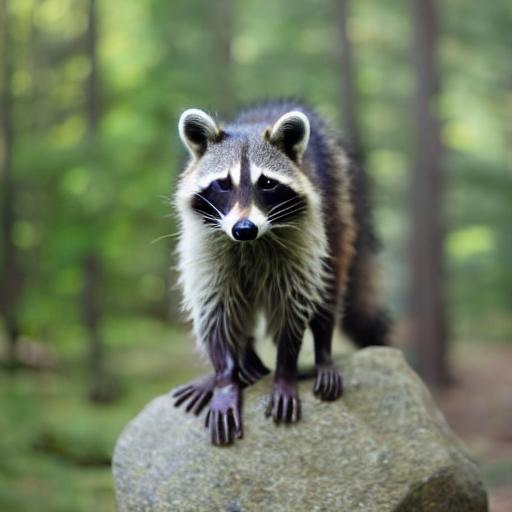raccoon: (163, 90, 366, 372)
